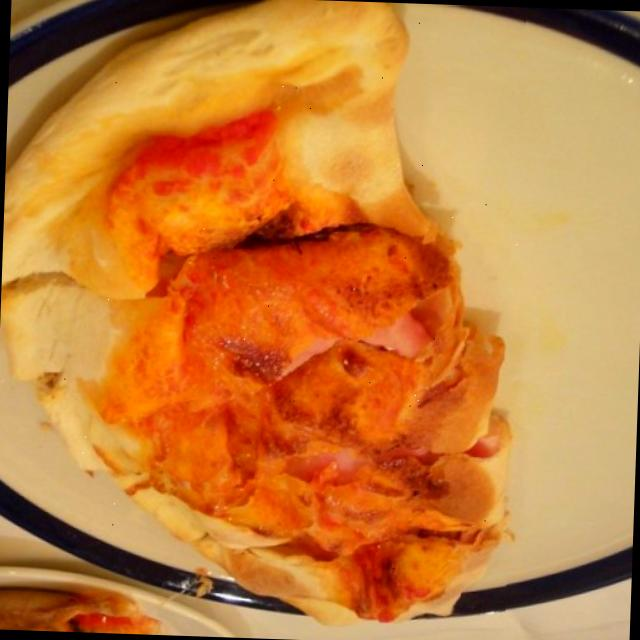pizza: (0, 0, 511, 623)
